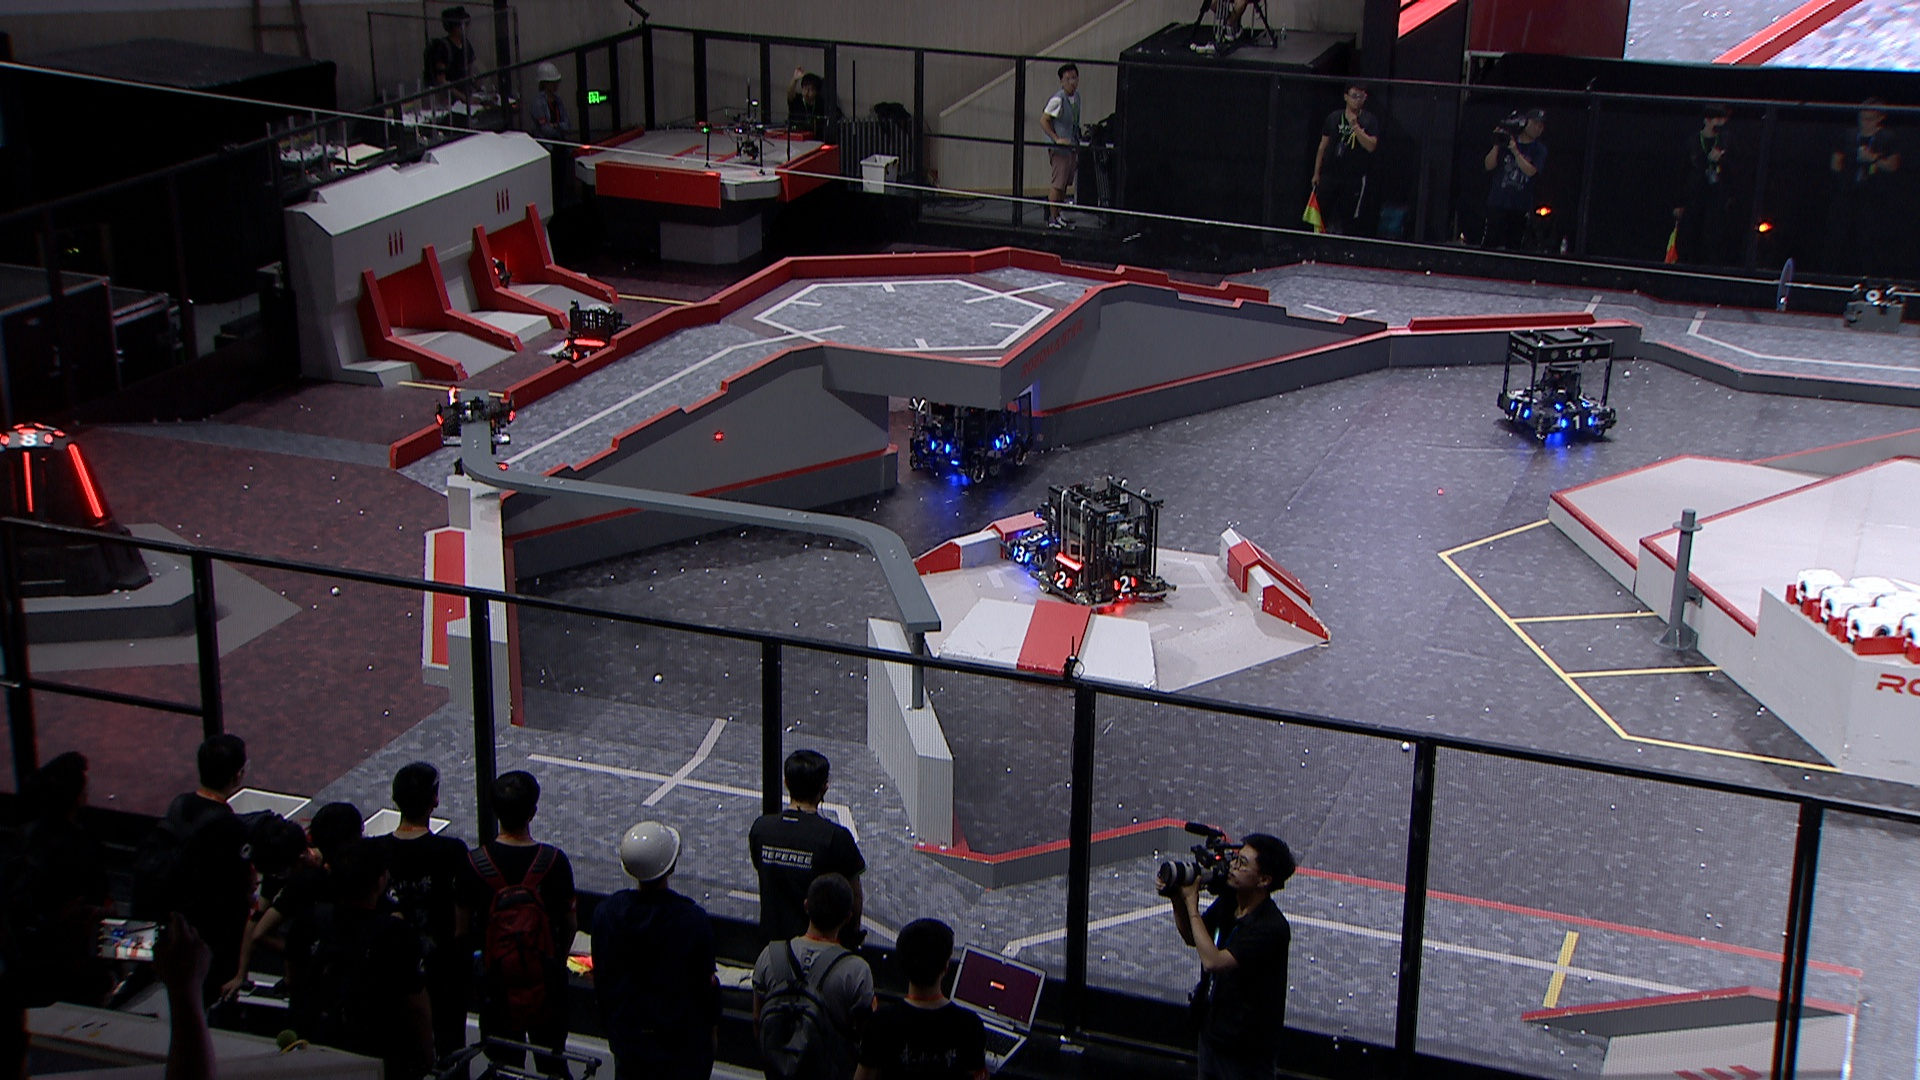armor: (65, 440, 103, 522), (21, 450, 36, 513), (3, 431, 51, 447), (1556, 413, 1596, 429), (1555, 398, 1586, 413), (1509, 400, 1528, 422), (1112, 576, 1135, 593), (1011, 542, 1031, 562), (928, 439, 951, 455), (994, 433, 1011, 451), (1025, 531, 1046, 545), (1054, 572, 1072, 585), (574, 349, 591, 363)
car: (1027, 475, 1172, 615), (902, 361, 1044, 488), (1493, 316, 1618, 444), (996, 498, 1081, 579), (551, 302, 642, 377), (468, 240, 531, 295)
watcher: (429, 385, 518, 483)
